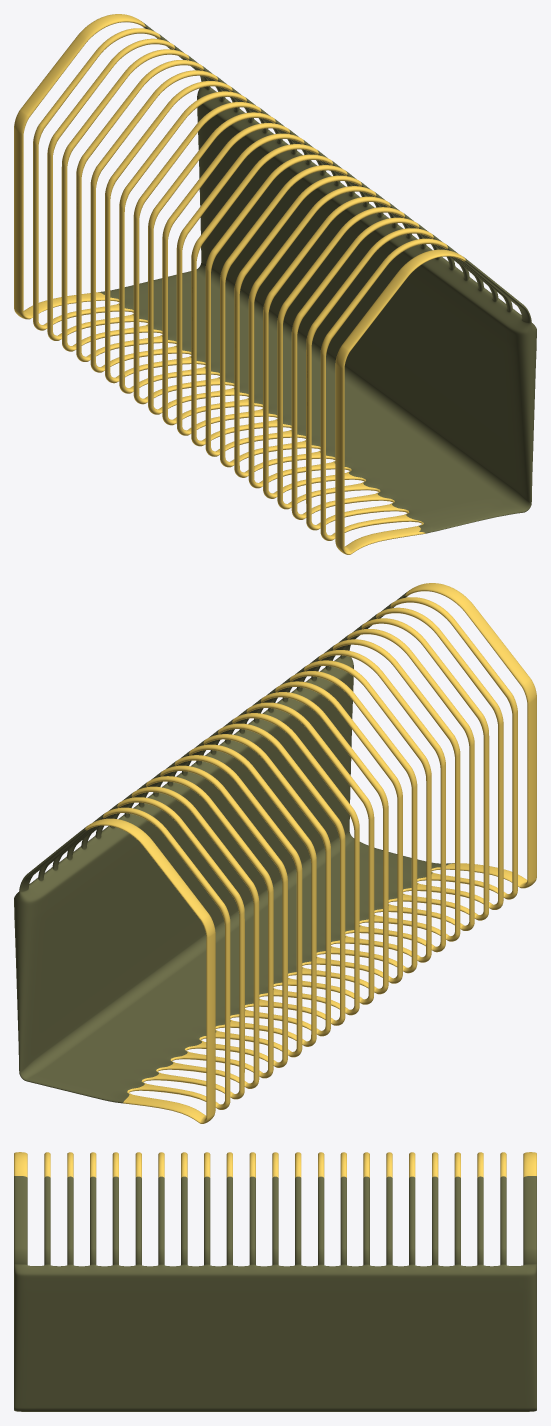
3 views of the same model, one above another, from view 1: azimuth 30°, elevation 25°; view 2: azimuth 150°, elevation 25°; view 3: azimuth 270°, elevation 25° (orthographic). The views are drawn at different scales.
Visible parts, largest first — view 1: Cube.001; view 2: Cube.001; view 3: Cube.001.
Part boxes in pixels (box(x1,y1,x2,y2)): Cube.001: box(14, 14, 536, 554); Cube.001: box(14, 583, 536, 1123); Cube.001: box(14, 1152, 536, 1411).
Bounding box in the file's own units: 2.08 × 2.8 × 5.99.
Materials: 1 (1 with a texture image).
